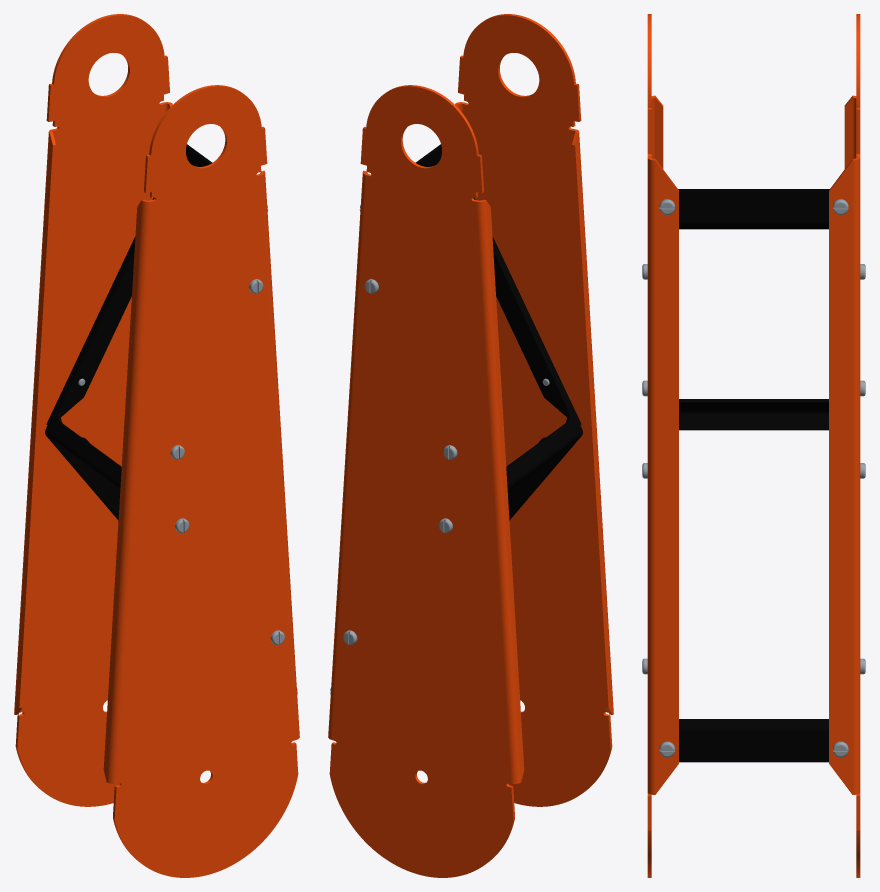
File: upperarm.dae
The picture shows the model from 3 angles, left to right: view 1: azimuth 30°, elevation 25°; view 2: azimuth 150°, elevation 25°; view 3: azimuth 270°, elevation 25°; orthographic projection. The views are drawn at different scales.
Visible parts, largest first — view 1: Upper arm side, Part 6, Upper arm skeleton; view 2: Part 6, Upper arm side, Upper arm skeleton; view 3: Part 6, Upper arm side, Upper arm skeleton.
Boxes of the visible parts, x1=… form: Upper arm side: x1=103, y1=85, x2=299, y2=877; Part 6: x1=14, y1=14, x2=172, y2=806; Upper arm skeleton: x1=45, y1=144, x2=212, y2=520; Part 6: x1=328, y1=85, x2=524, y2=877; Upper arm side: x1=455, y1=14, x2=613, y2=806; Upper arm skeleton: x1=415, y1=144, x2=582, y2=520; Part 6: x1=829, y1=14, x2=860, y2=877; Upper arm side: x1=647, y1=14, x2=678, y2=877; Upper arm skeleton: x1=678, y1=189, x2=829, y2=762.
Bounding box in the file's own units: 0.0611 × 0.0566 × 0.237.
